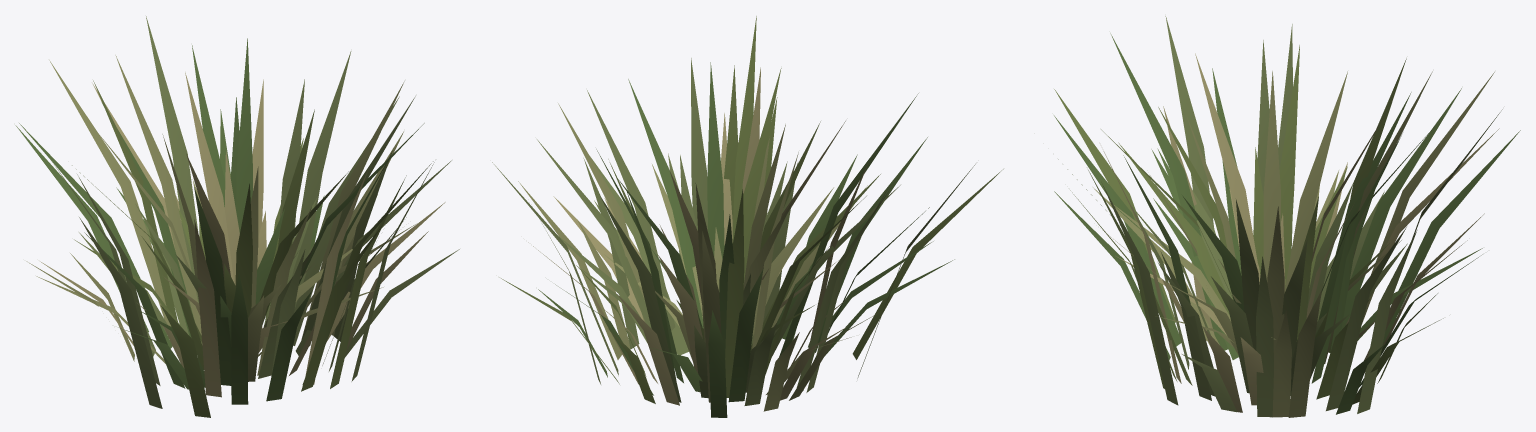
File: wild_grass.glb
3 renders of one model, left to right at view 1: azimuth 30°, elevation 25°; view 2: azimuth 150°, elevation 25°; view 3: azimuth 270°, elevation 25°, orthographic. The views are drawn at different scales.
Parts seen in each view (by area): view 1: veg_wild_grass_lod0; view 2: veg_wild_grass_lod0; view 3: veg_wild_grass_lod0.
Part boxes in pixels (box(x1,y1,x2,y2)): veg_wild_grass_lod0: box(15, 16, 459, 417); veg_wild_grass_lod0: box(492, 16, 1003, 417); veg_wild_grass_lod0: box(1054, 16, 1520, 417).
Size of what is drawn, in the model's own units: 0.8423 by 0.526 by 0.8399.
